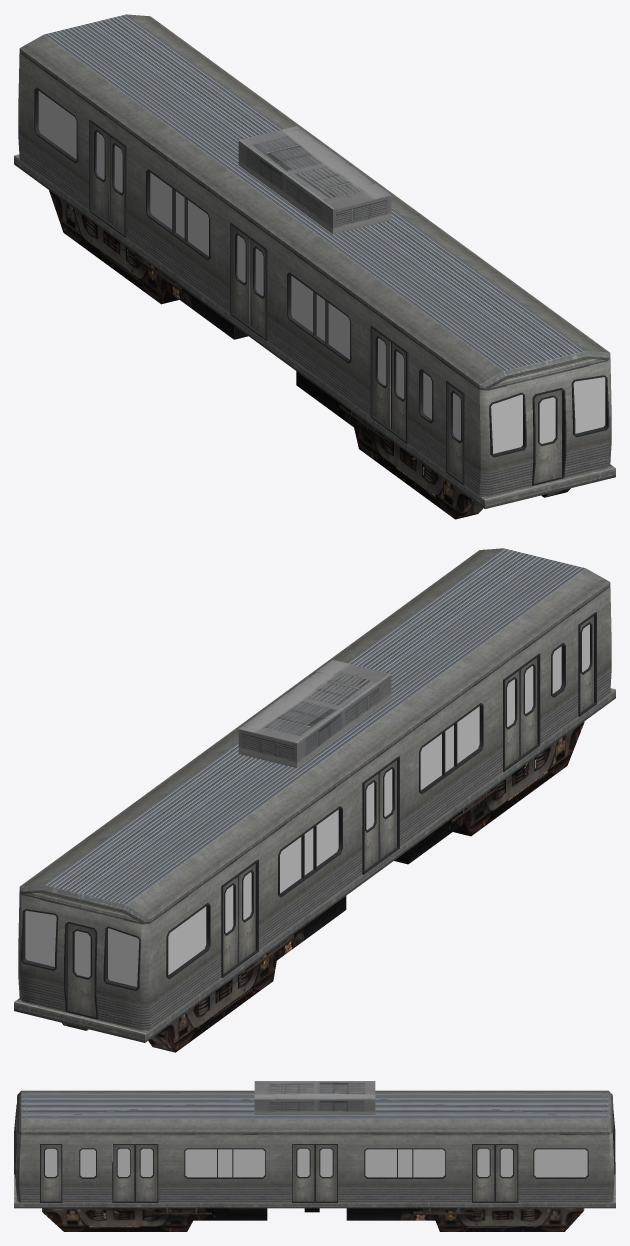
The model's file is metro-vagón-SINTEXTURAS.fbx.
The picture shows the model from 3 angles, top to bottom: view 1: azimuth 30°, elevation 25°; view 2: azimuth 150°, elevation 25°; view 3: azimuth 270°, elevation 25°; orthographic projection. The views are drawn at different scales.
Parts seen in each view (by area): view 1: subway_car, Door.fondo, Glass.003, Glass.002, Door.005.Der, Glass.001, Glass.008, Glass.009, Door.003.Der, Door.002.Der, Door.002.Izq, Door.003.Izq (+2 smaller); view 2: subway_car, Door.principio, Glass.002, Glass.003, Door.005.Izq, Glass.001, Glass.010, Door.002.Izq, Door.003.Izq, Glass.011, Door.002.Der, Door.003.Der (+2 smaller); view 3: subway_car, Glass.006, Glass.007, Glass.005, Door.001.Izq, Door.004.Der, Door.006.Der, Door.006.Izq, Door.001.Der, Door.004.Izq, Door.008, Glass.012.
Boxes of the visible parts, bbox=[...] form: subway_car: bbox=[14, 14, 615, 519]; Door.fondo: bbox=[534, 390, 562, 483]; Glass.003: bbox=[291, 276, 349, 359]; Glass.002: bbox=[150, 172, 208, 256]; Door.005.Der: bbox=[373, 329, 391, 428]; Glass.001: bbox=[38, 91, 76, 159]; Glass.008: bbox=[573, 377, 605, 433]; Glass.009: bbox=[491, 394, 522, 453]; Door.003.Der: bbox=[233, 226, 250, 325]; Door.002.Der: bbox=[92, 123, 109, 222]; Door.002.Izq: bbox=[110, 136, 124, 233]; Door.003.Izq: bbox=[251, 239, 265, 336]; subway_car: bbox=[14, 548, 615, 1052]; Door.principio: bbox=[68, 923, 96, 1017]; Glass.002: bbox=[280, 809, 338, 893]; Glass.003: bbox=[420, 706, 479, 790]; Door.005.Izq: bbox=[519, 657, 537, 756]; Glass.001: bbox=[168, 906, 206, 974]; Glass.010: bbox=[25, 910, 56, 966]; Door.002.Izq: bbox=[238, 864, 255, 962]; Door.003.Izq: bbox=[379, 760, 396, 859]; Glass.011: bbox=[108, 928, 139, 986]; Door.002.Der: bbox=[223, 876, 237, 973]; Door.003.Der: bbox=[364, 773, 378, 870]; subway_car: bbox=[14, 1081, 615, 1231]; Glass.006: bbox=[365, 1149, 444, 1177]; Glass.007: bbox=[185, 1149, 264, 1177]; Glass.005: bbox=[534, 1149, 587, 1177]; Door.001.Izq: bbox=[495, 1145, 517, 1201]; Door.004.Der: bbox=[292, 1145, 314, 1201]; Door.006.Der: bbox=[113, 1145, 135, 1201]; Door.006.Izq: bbox=[135, 1145, 157, 1201]; Door.001.Der: bbox=[473, 1145, 495, 1201]; Door.004.Izq: bbox=[315, 1145, 336, 1201]; Door.008: bbox=[41, 1145, 61, 1201]; Glass.012: bbox=[80, 1149, 95, 1177].
Size of the model in its own units: 383 by 533 by 2339.
